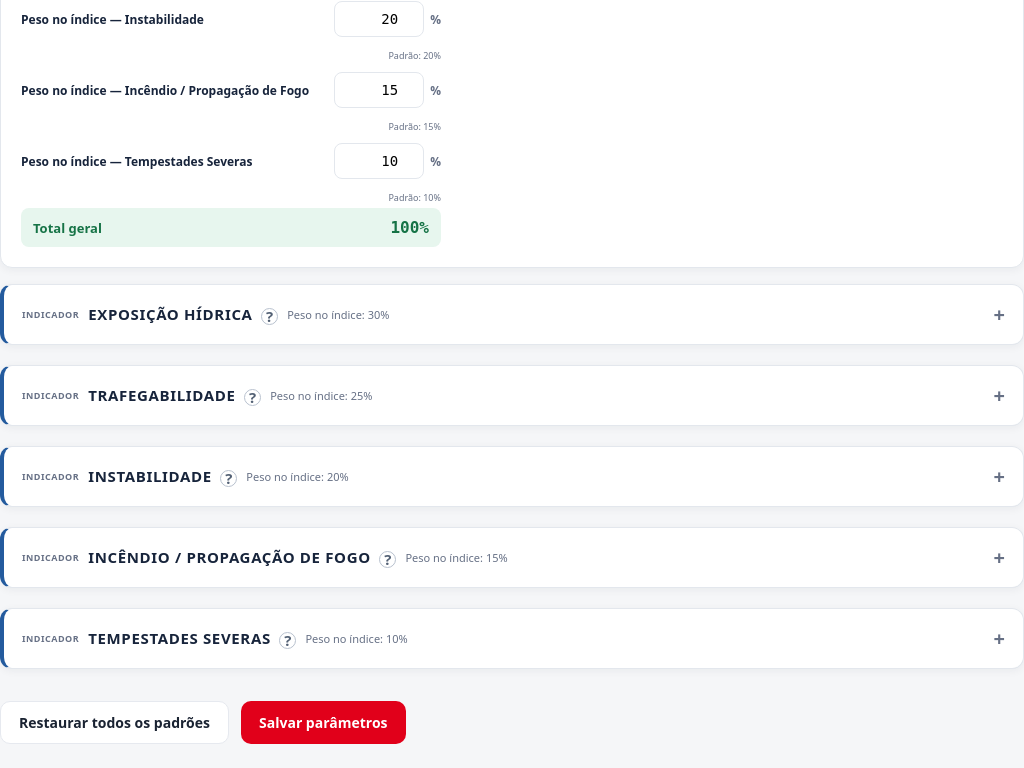
Test: tela Riscos e Score › exibe os parâmetros internos da Trafegabilidade (composição + limiar) com total interno
This screenshot has width=1024, height=768.
(page scrolled)
What coordinates should you click on to do the following:
click the heading "Trafegabilidade"
I would click on:
 (175, 396)
Its box is x1=88 y1=386 x2=261 y2=406.
(page scrolled)
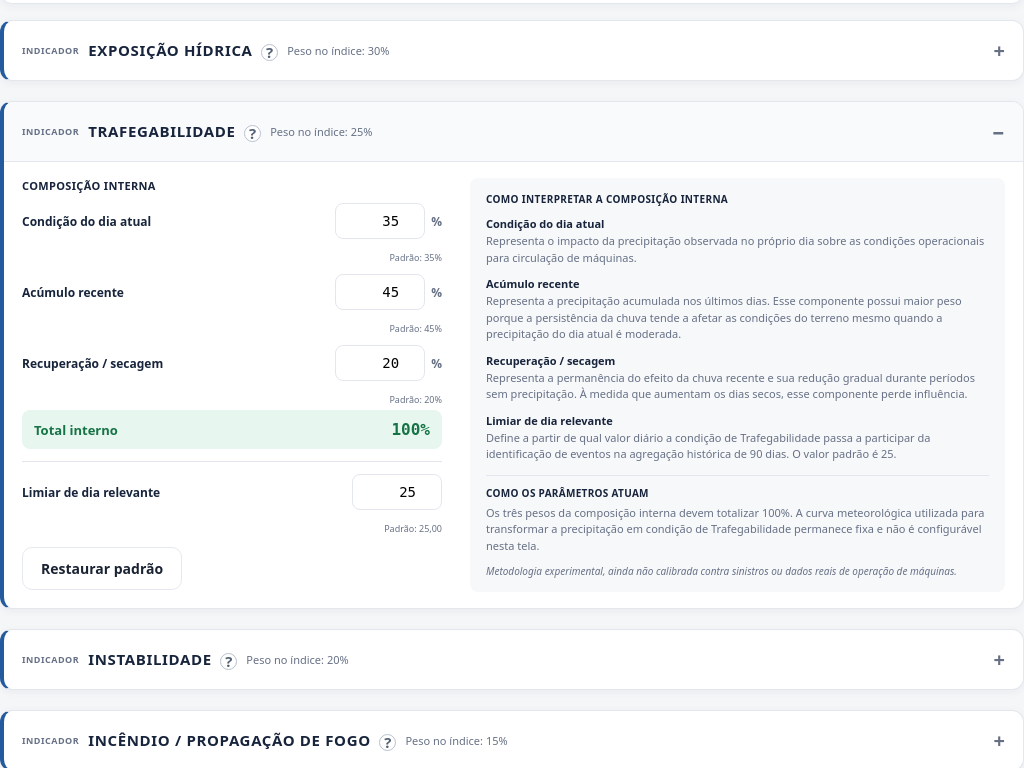
Now the number field labelled "Condição do dia atual" holds "35", box x1=335 y1=203 x2=425 y2=239
Now the number field labelled "Acúmulo recente" holds "45", box x1=335 y1=274 x2=425 y2=310
Now the number field labelled "Recuperação / secagem" holds "20", box x1=335 y1=345 x2=425 y2=381
